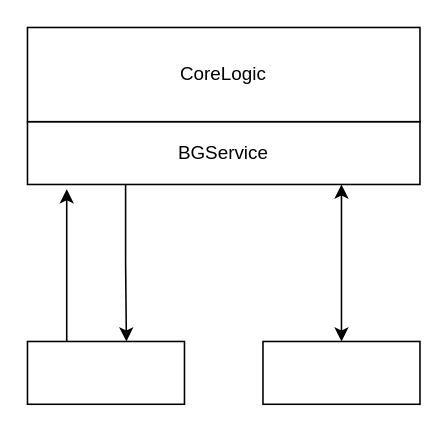
Some shapes in this 447 by 432 pixel diagram are drawn without their labels. The shapes that lost their labels are listed below. From the top down, each one's box as (x1, y1, x2, y2) in pixels, then its label:
(26, 340, 184, 404): GUI
(261, 340, 420, 404): Cmd/Cli Client
